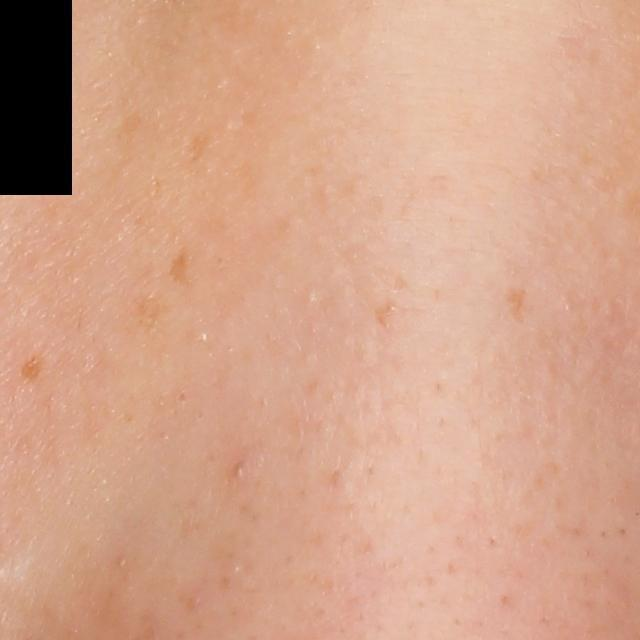comedo: (227, 460, 248, 483)
melasma: (499, 277, 537, 328), (164, 245, 192, 288), (370, 297, 398, 335), (16, 352, 43, 384), (187, 126, 210, 163)
